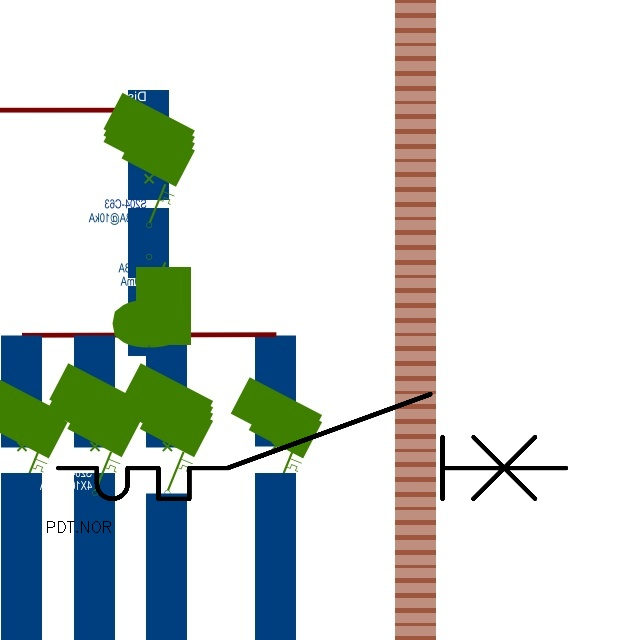interruptor_termomagnetico: (45, 381, 579, 512)
